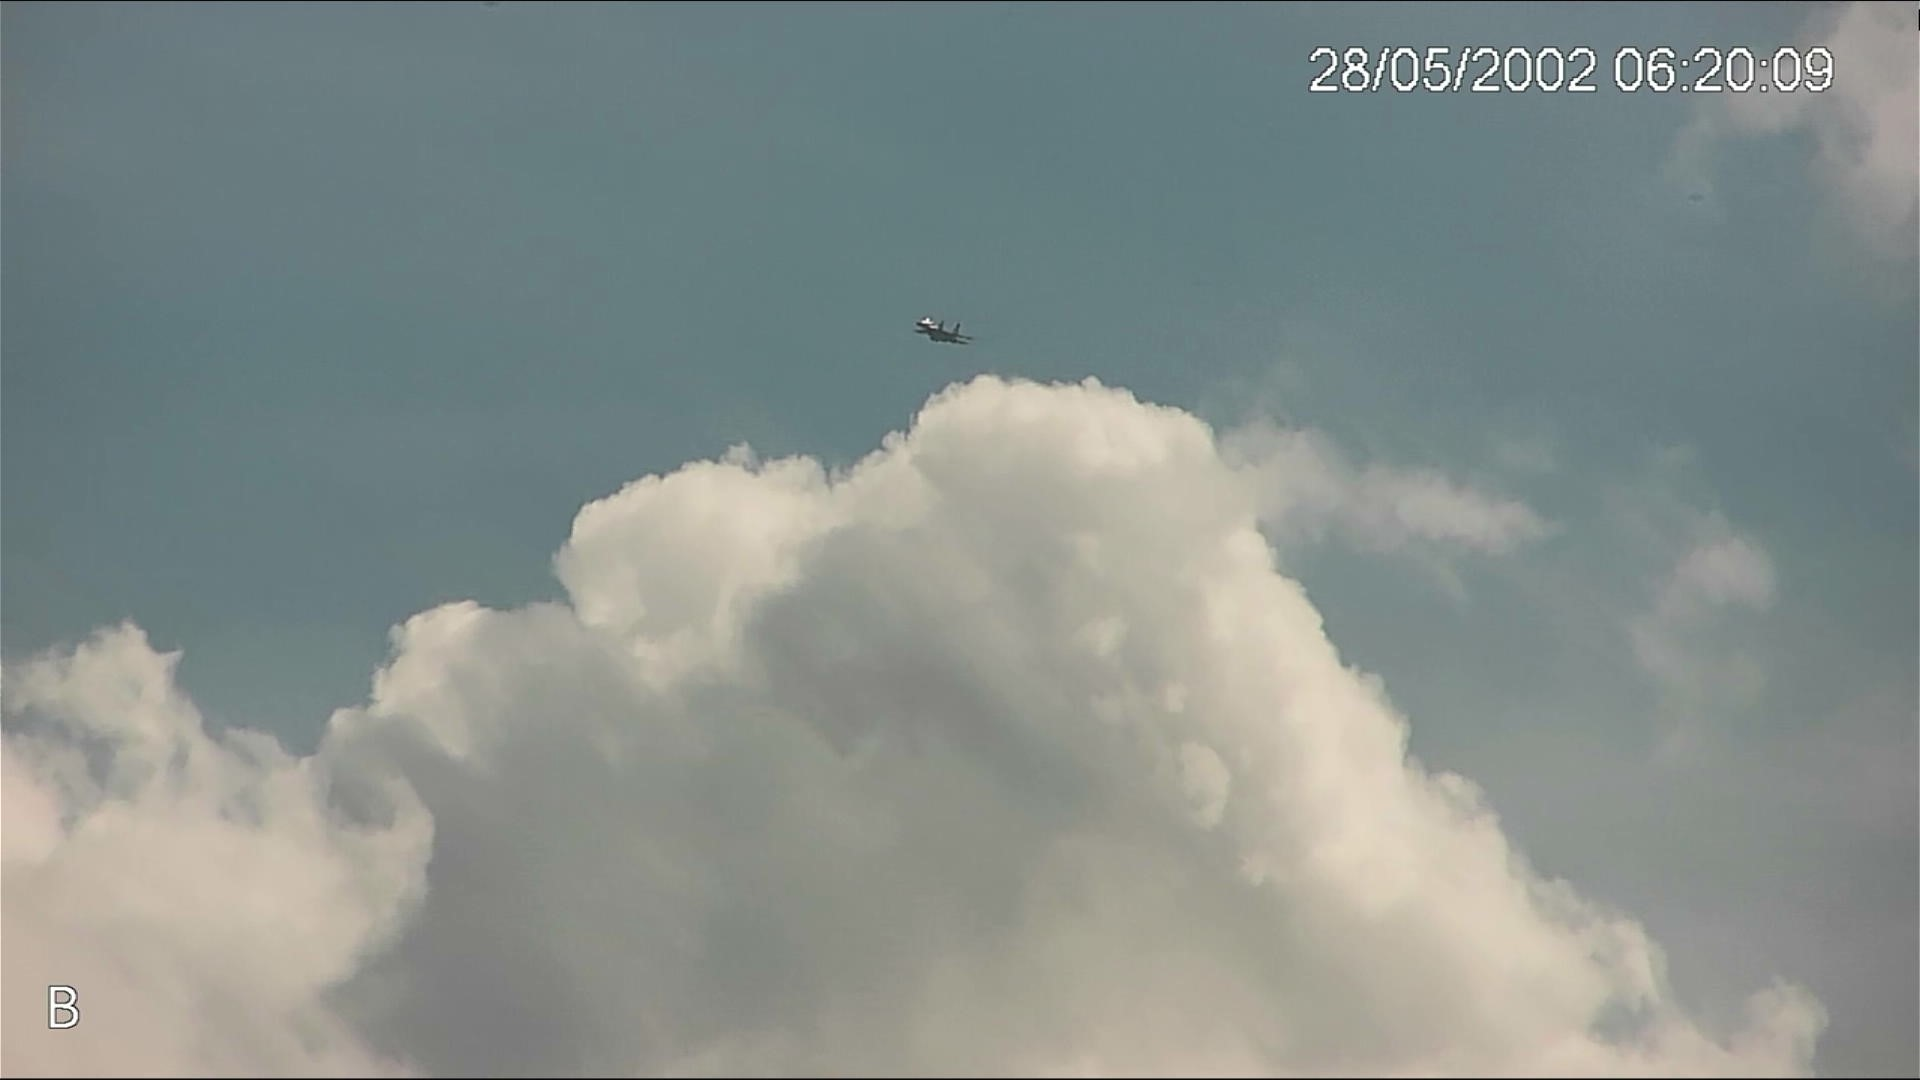SU_30: (911, 314, 976, 353)
